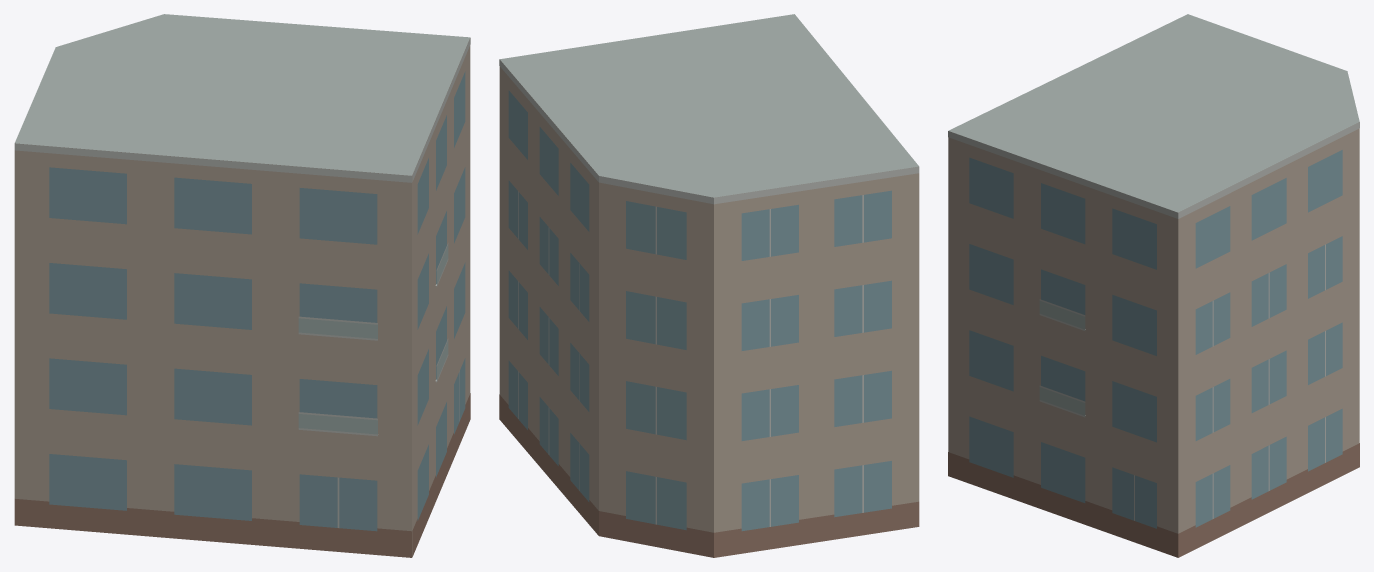
The model's file is survey-upis-32884790.glb.
The picture shows the model from 3 angles, left to right: view 1: azimuth 30°, elevation 25°; view 2: azimuth 150°, elevation 25°; view 3: azimuth 270°, elevation 25°; orthographic projection. The views are drawn at different scales.
Visible parts, largest first — view 1: survey-upis-32884790.tmp; view 2: survey-upis-32884790.tmp; view 3: survey-upis-32884790.tmp.
Part boxes in pixels (x1=…): survey-upis-32884790.tmp: x1=14, y1=14, x2=470, y2=557; survey-upis-32884790.tmp: x1=499, y1=14, x2=919, y2=557; survey-upis-32884790.tmp: x1=948, y1=14, x2=1359, y2=557.
Size of the model in its own units: 16.3 by 13.2 by 14.27.
